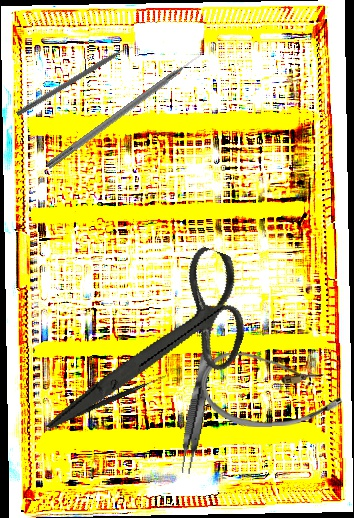Cannula: (200, 349, 343, 429)
Chopper: (15, 40, 142, 123)
Hook Surgical: (45, 50, 208, 171), (52, 372, 167, 428)
Iris Scissors: (45, 216, 268, 480)
Tissue Forceps: (176, 346, 217, 476)
